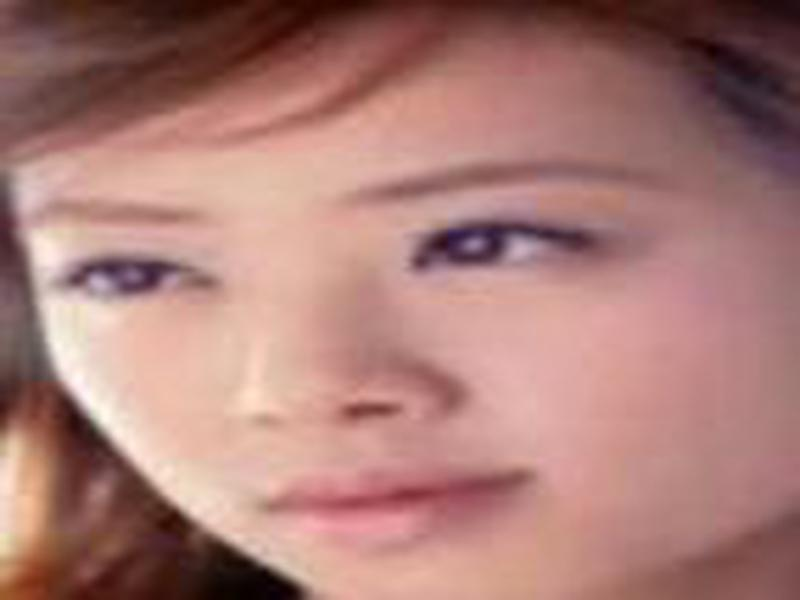without_mask: (12, 87, 782, 600)
